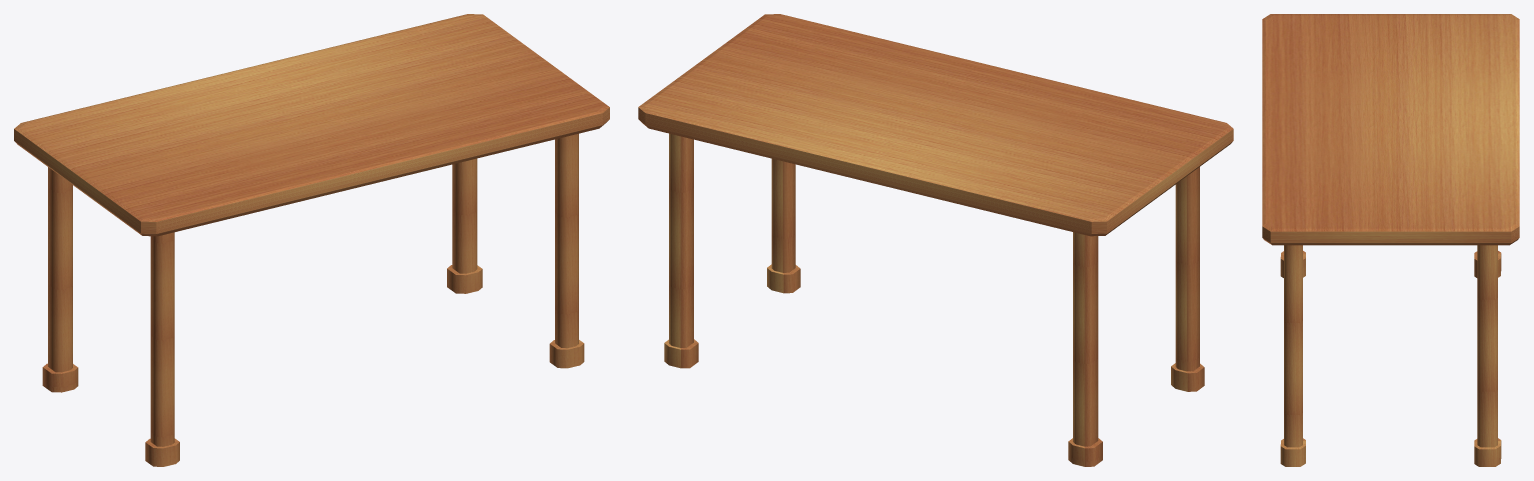
Rendered from prop_Table.FBX.
The picture shows the model from 3 angles, left to right: view 1: azimuth 30°, elevation 25°; view 2: azimuth 150°, elevation 25°; view 3: azimuth 270°, elevation 25°; orthographic projection. The views are drawn at different scales.
Parts seen in each view (by area): view 1: Object002; view 2: Object002; view 3: Object002.
Part boxes in pixels (x1=…): Object002: x1=14, y1=14, x2=609, y2=466; Object002: x1=638, y1=14, x2=1233, y2=466; Object002: x1=1262, y1=14, x2=1519, y2=466.
Bounding box in the file's own units: 238 × 125 × 119.
